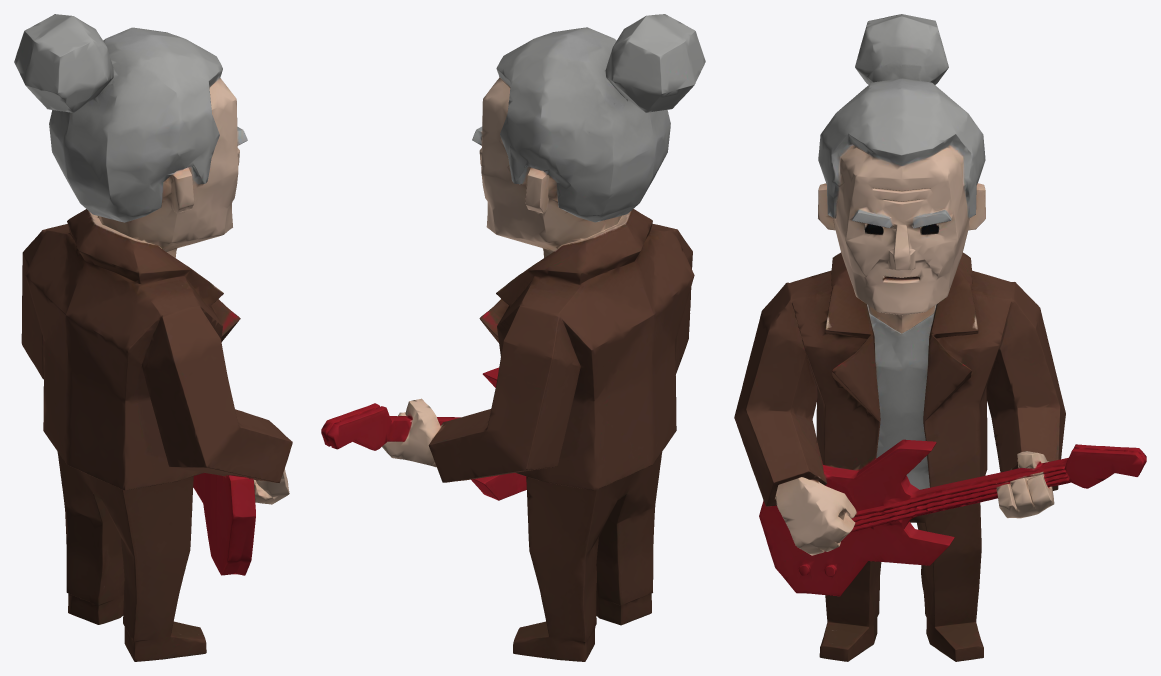
Rendered from player.glb.
3 renders of one model, left to right at view 1: azimuth 30°, elevation 25°; view 2: azimuth 150°, elevation 25°; view 3: azimuth 270°, elevation 25°, orthographic. The views are drawn at different scales.
Visible parts, largest first — view 1: tripo_node_ac22392d-a27b-4d05-bfa7-dbcbcf3a801c; view 2: tripo_node_ac22392d-a27b-4d05-bfa7-dbcbcf3a801c; view 3: tripo_node_ac22392d-a27b-4d05-bfa7-dbcbcf3a801c.
Boxes of the visible parts, x1,y1,x2,y2 form: tripo_node_ac22392d-a27b-4d05-bfa7-dbcbcf3a801c: (14,14,292,661); tripo_node_ac22392d-a27b-4d05-bfa7-dbcbcf3a801c: (321,14,705,661); tripo_node_ac22392d-a27b-4d05-bfa7-dbcbcf3a801c: (734,14,1146,661).
Bounding box in the file's own units: 0.144 × 0.35 × 0.2181.
Materials: 1 (1 with a texture image).
